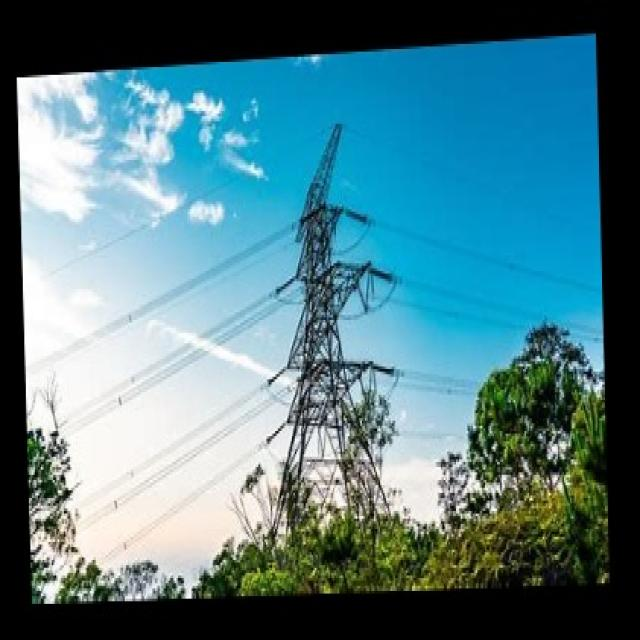utility poles: (453, 278, 583, 476), (321, 363, 419, 514)
